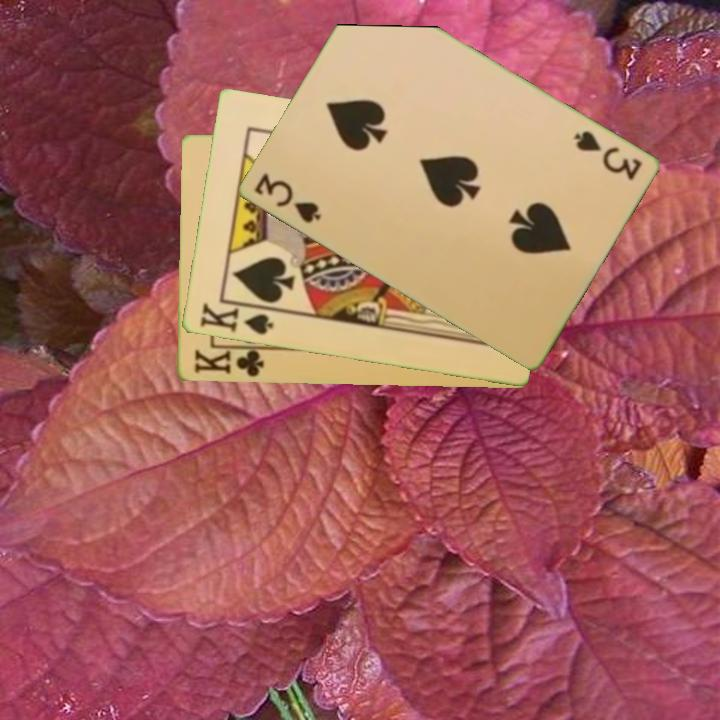3s: (250, 169, 324, 227), (570, 127, 644, 183)
Kc: (190, 344, 270, 380)
Ks: (196, 299, 278, 338)
